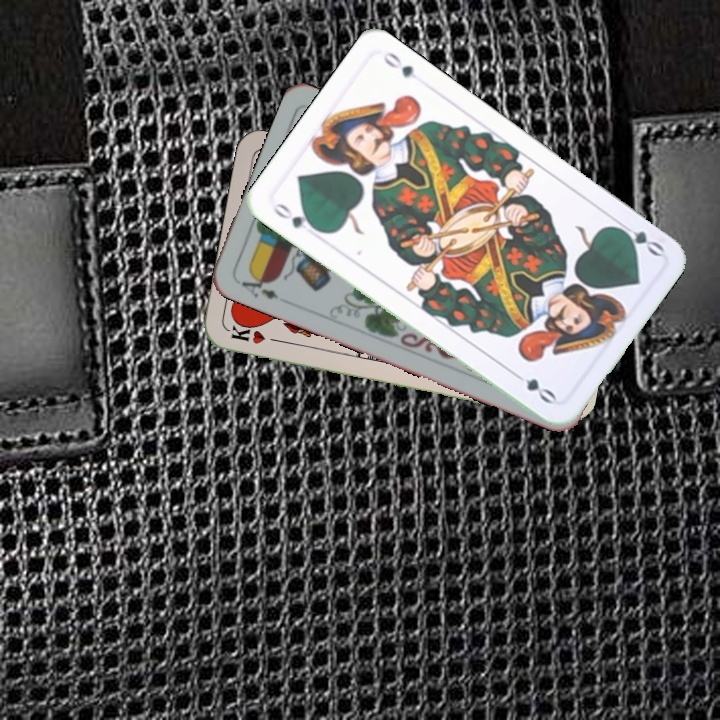EA: (237, 269, 281, 303)
GO: (611, 216, 667, 259), (269, 198, 323, 235)
HK: (227, 321, 285, 347)
